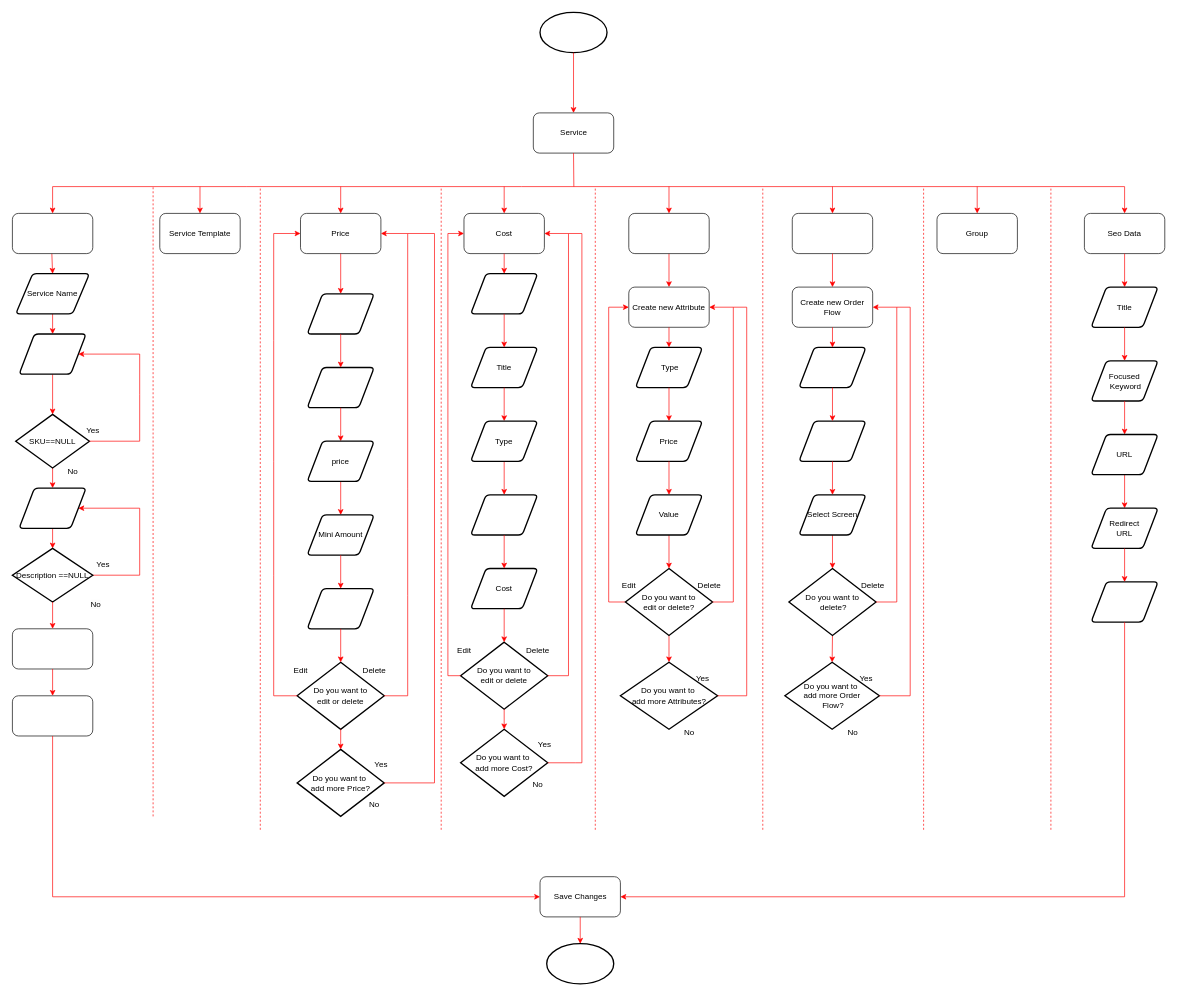
This 1177x996 diagram has some shape labels left out. Each missing label, with the centre of its shape:
"Attribute" belongs at [668,233].
"Canonical URL" belongs at [1124,601].
"Cost Type" belongs at [504,293].
"Currency" belongs at [340,387].
"END" belongs at [580,963].
"Flow Name" belongs at [832,367].
"Link Service" belongs at [52,715].
"Mini Amount Coverage" belongs at [340,608].
"Minutes" belongs at [52,508].
"Order Flow" belongs at [832,233].
"Position" belongs at [832,441].
"Pricing Unit" belongs at [340,313].
"Quantity" belongs at [504,514].
"Service Detail" belongs at [52,233].
"Service Type" belongs at [52,648].
"SKU" belongs at [52,354].
"START" belongs at [573,32].
